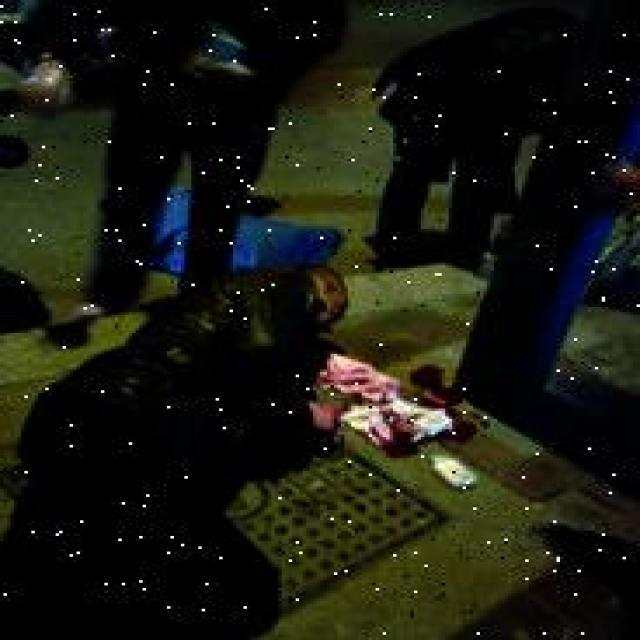fall: (8, 266, 376, 638)
